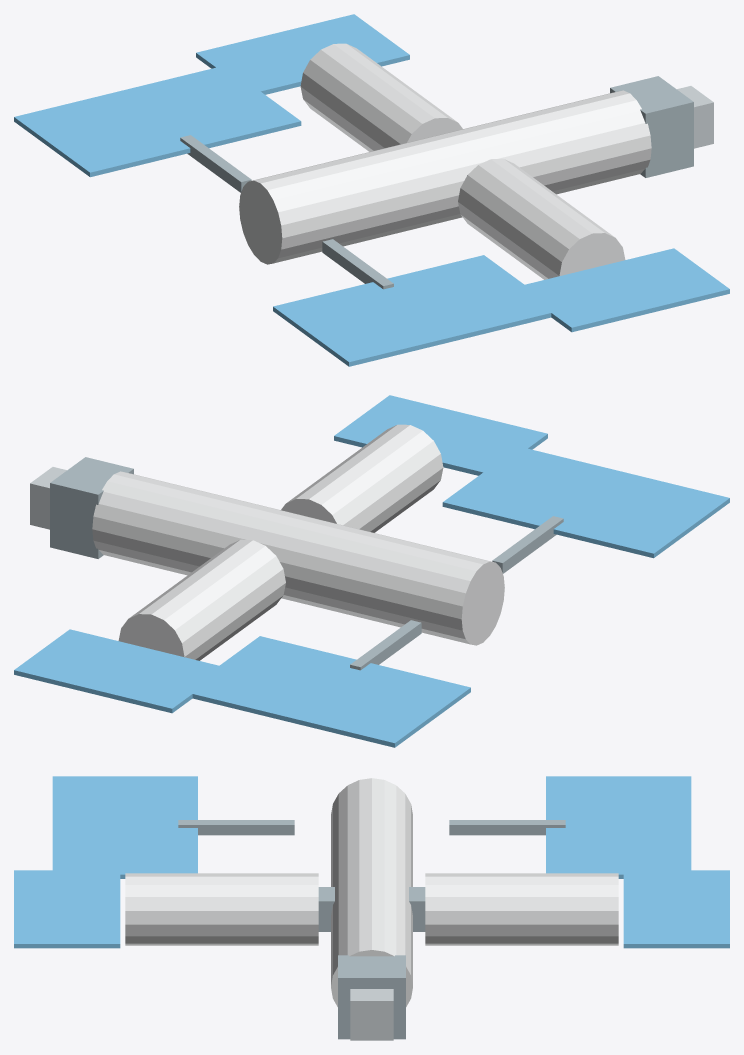
File: tiangong.glb
The picture shows the model from 3 angles, top to bottom: view 1: azimuth 30°, elevation 25°; view 2: azimuth 150°, elevation 25°; view 3: azimuth 270°, elevation 25°; orthographic projection. The views are drawn at different scales.
Parts seen in each view (by area): view 1: tiangong; view 2: tiangong; view 3: tiangong.
Part boxes in pixels (<box>): tiangong: <box>14,14,729,366</box>; tiangong: <box>14,395,729,747</box>; tiangong: <box>14,776,729,1040</box>.
Bounding box in the file's own units: 5.92 × 0.85 × 7.4.
